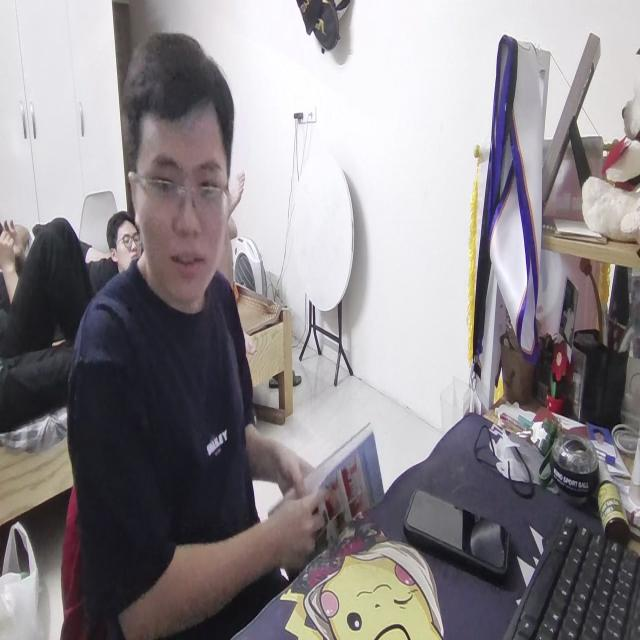book: (270, 418, 382, 569)
extra_person: (0, 202, 90, 401), (95, 202, 149, 276)
phone: (401, 477, 514, 591)
student: (68, 27, 322, 637)
